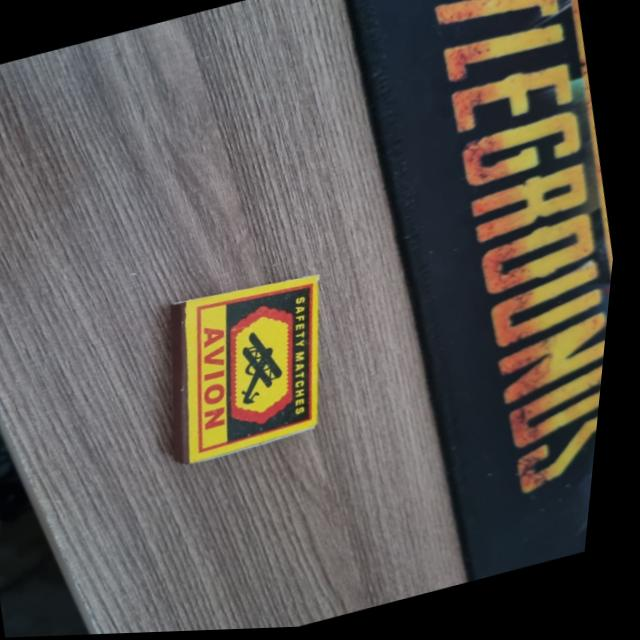match: (132, 262, 367, 481)
